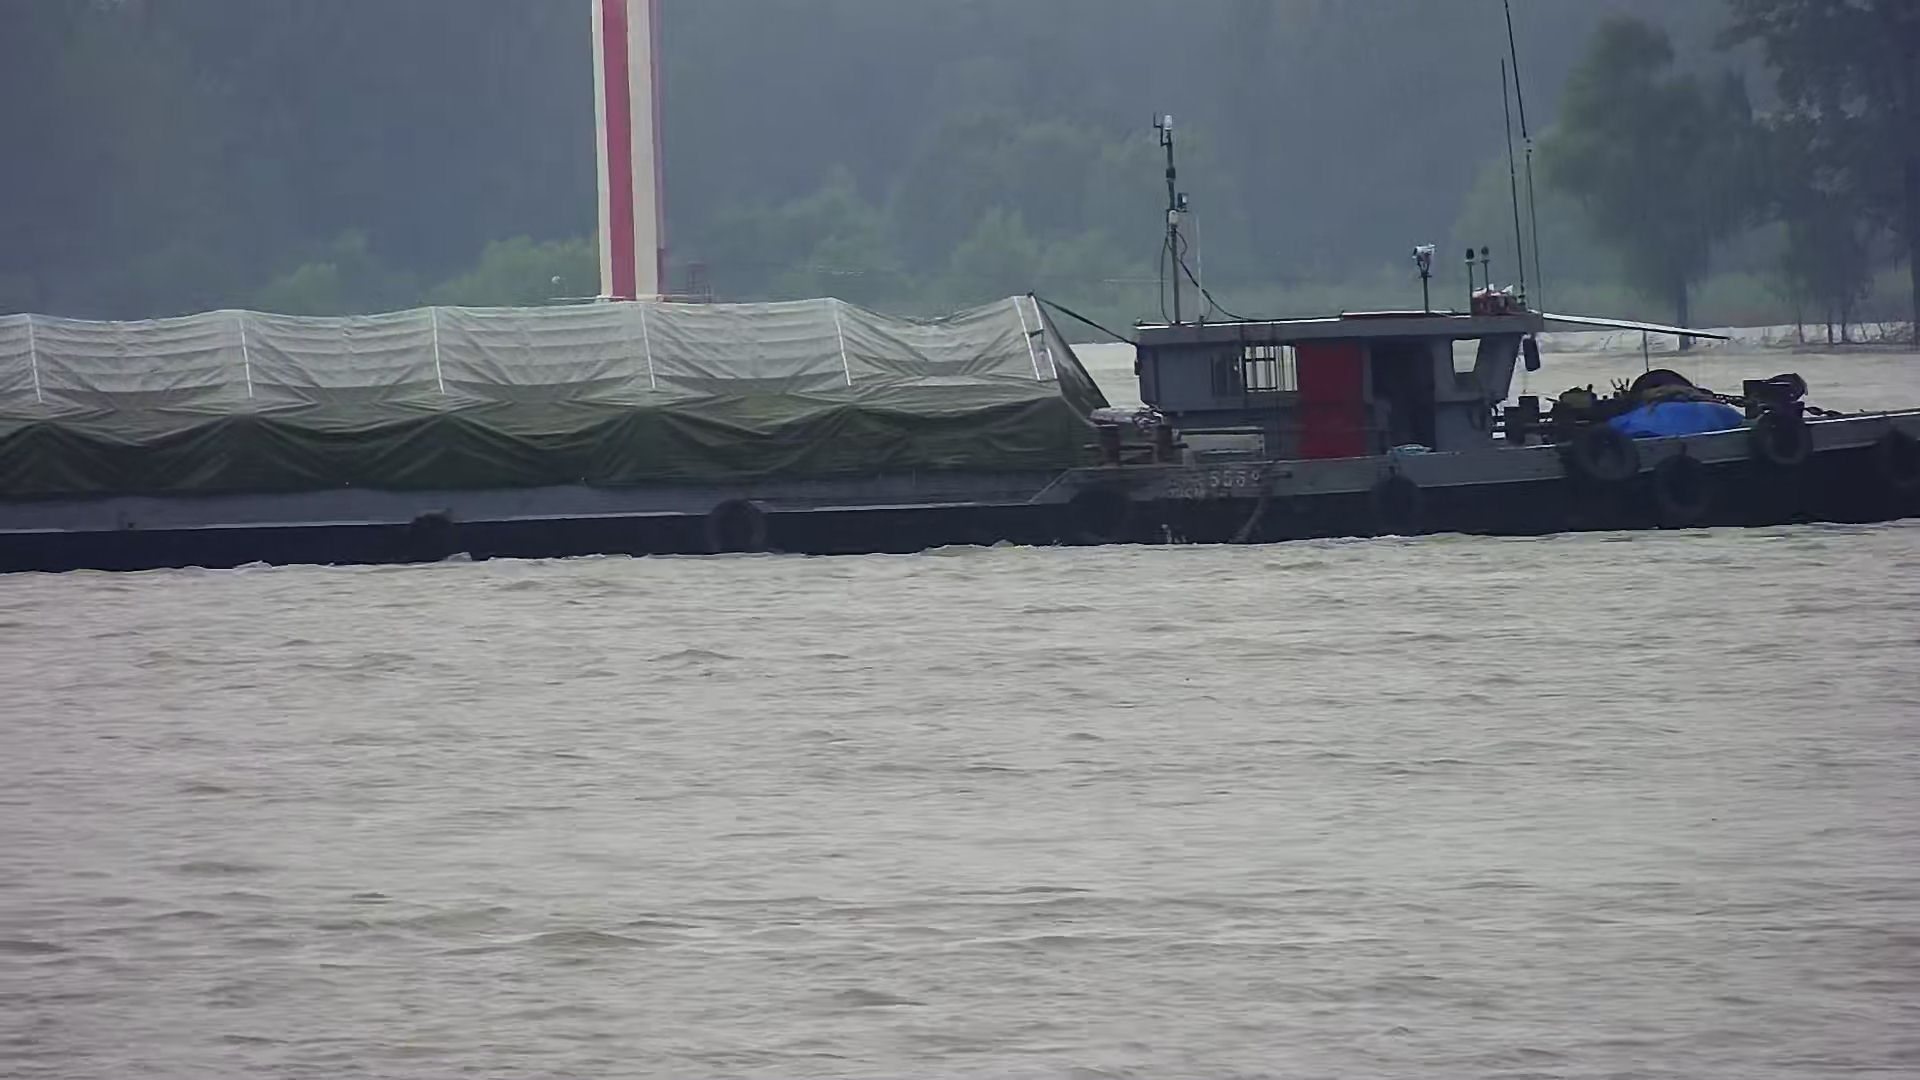platform: (549, 1, 711, 303)
ship: (1, 235, 1917, 568)
tree: (1528, 20, 1751, 352), (1760, 3, 1920, 345)
